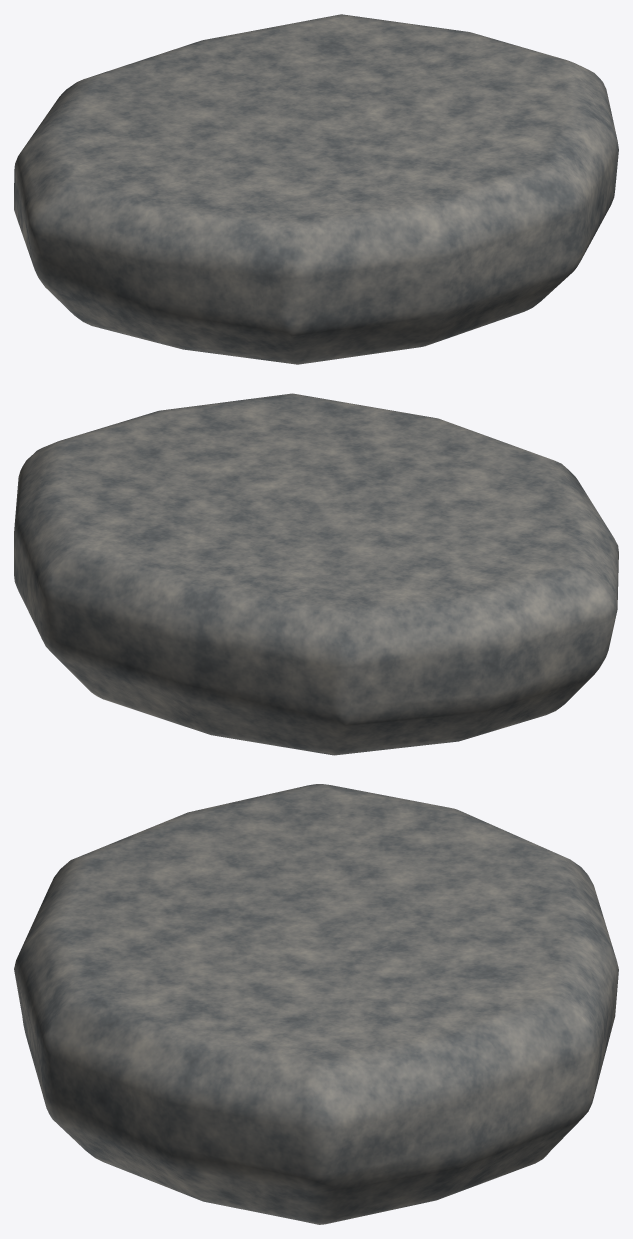
Rendered from floating_basalt_rock.obj.
The picture shows the model from 3 angles, top to bottom: view 1: azimuth 30°, elevation 25°; view 2: azimuth 150°, elevation 25°; view 3: azimuth 270°, elevation 25°; orthographic projection. The views are drawn at different scales.
Visible parts, largest first — view 1: floating_basalt_rock; view 2: floating_basalt_rock; view 3: floating_basalt_rock.
Part boxes in pixels (x1,y1,x2,y2): floating_basalt_rock: (14,14,618,364); floating_basalt_rock: (14,393,618,755); floating_basalt_rock: (14,784,618,1224).
Size of the model in its own units: 5.69 by 1.65 by 4.5.
Materials: 1 (1 with a texture image).
